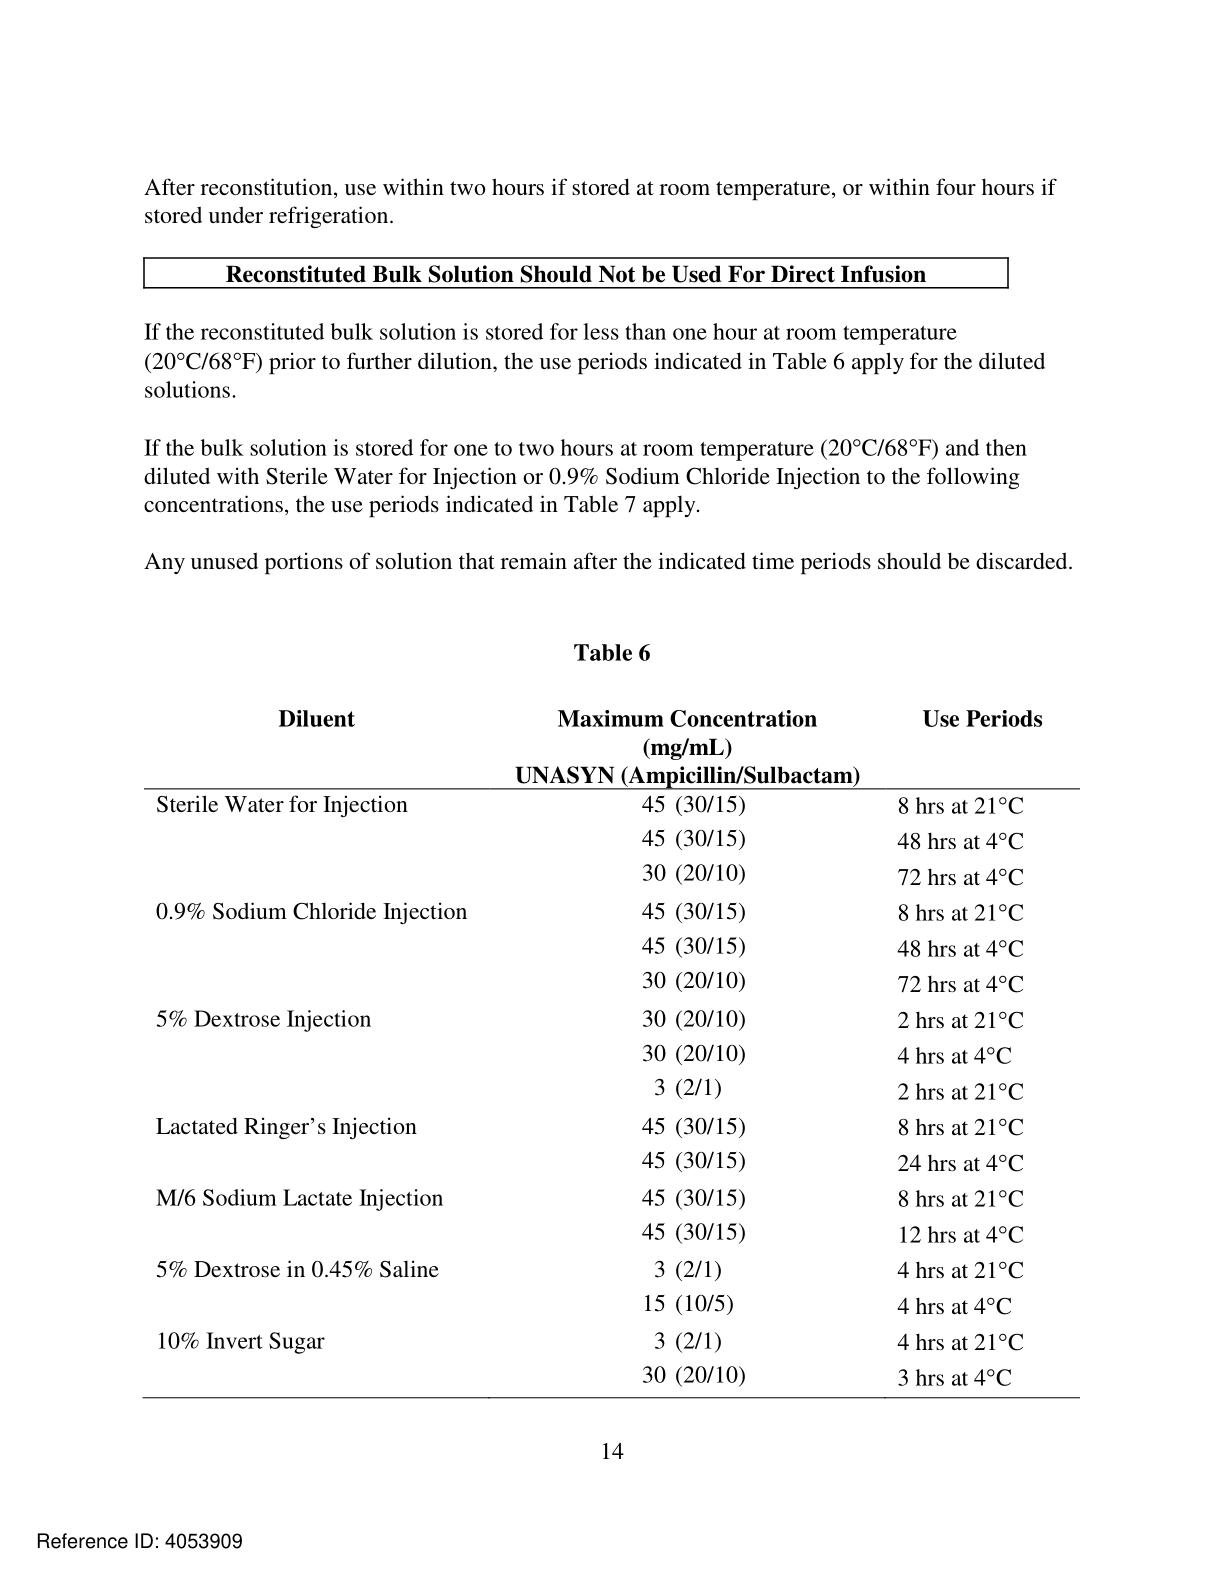partial_lined: (143, 705, 1083, 1404)
